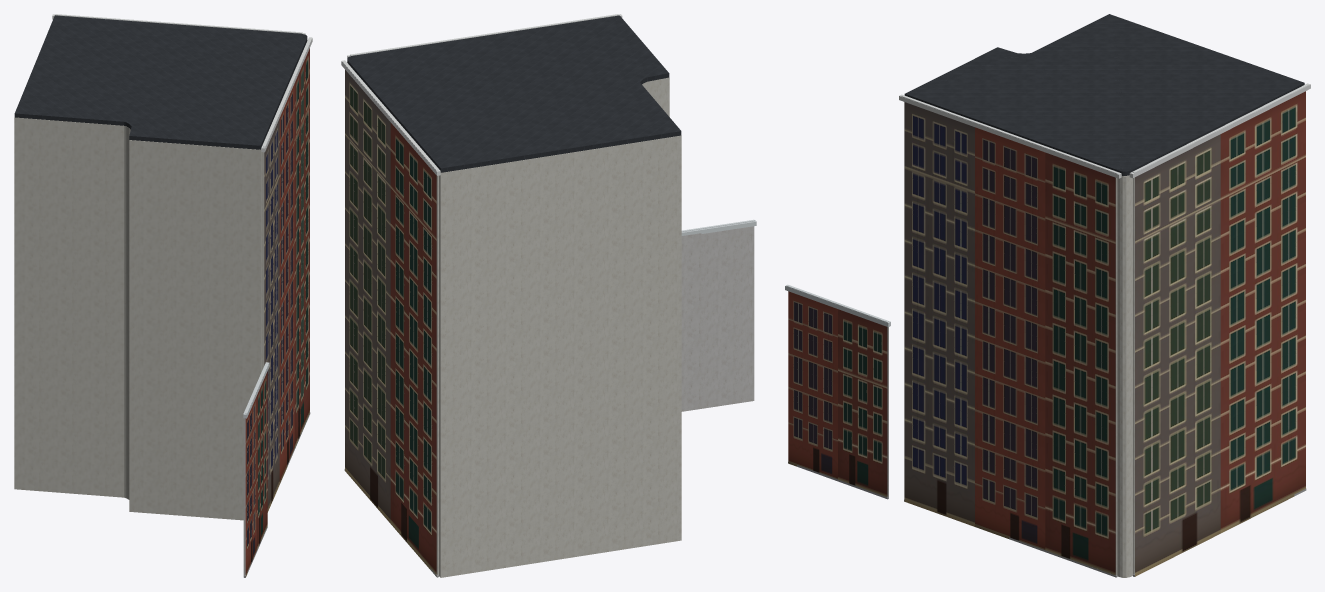
3 views of the same model, side by side, from view 1: azimuth 30°, elevation 25°; view 2: azimuth 150°, elevation 25°; view 3: azimuth 270°, elevation 25° (orthographic). The views are drawn at different scales.
Visible parts, largest first — view 1: bldg_469120864, bldg_469120864_roof, bldg_469120864_facade1, bldg_469120840_facade0, bldg_469120864_facade0; view 2: bldg_469120864, bldg_469120864_facade0, bldg_469120864_roof, bldg_469120840_facade0, bldg_469120864_facade1; view 3: bldg_469120864_facade1, bldg_469120864_facade0, bldg_469120864_roof, bldg_469120840_facade0, bldg_469120864.
Part boxes in pixels (<box>): bldg_469120864: <box>14,40,307,520</box>; bldg_469120864_roof: <box>14,15,307,149</box>; bldg_469120864_facade1: <box>261,37,312,512</box>; bldg_469120840_facade0: <box>243,362,269,577</box>; bldg_469120864_facade0: <box>52,14,305,34</box>; bldg_469120864: <box>347,62,681,577</box>; bldg_469120864_facade0: <box>341,60,440,577</box>; bldg_469120864_roof: <box>347,15,681,172</box>; bldg_469120840_facade0: <box>681,219,756,411</box>; bldg_469120864_facade1: <box>347,14,622,57</box>; bldg_469120864_facade1: <box>899,94,1121,577</box>; bldg_469120864_facade0: <box>1129,83,1310,576</box>; bldg_469120864_roof: <box>904,14,1304,175</box>; bldg_469120840_facade0: <box>785,284,890,499</box>; bldg_469120864: <box>904,102,1133,577</box>.
Size of the model in its own units: 31.29 by 37.12 by 43.54.
8 materials, 4 textured.
